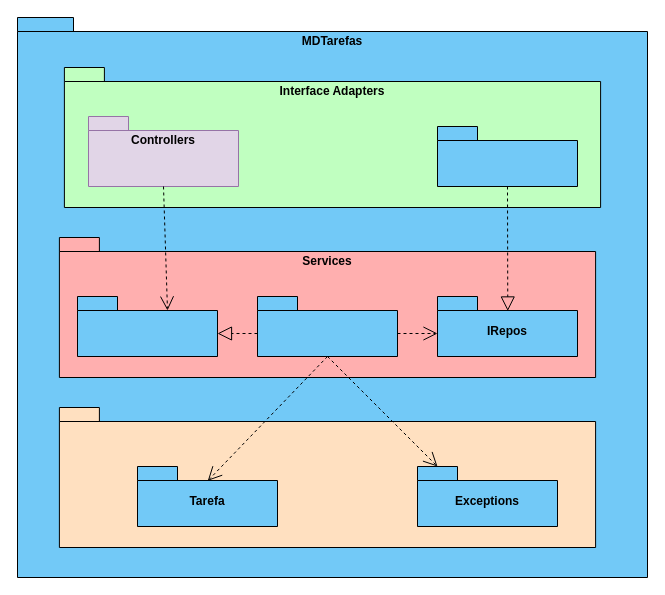
The diagram is 665 pixels wide and 595 high, and some of its shapes have lost their labels. The shapes that lost their labels are listed below. From the top down, each one's box as (x1, y1, x2, y2) in pixels, then its label:
(436, 126, 578, 186): Repos
(76, 296, 218, 356): IServices
(256, 296, 398, 356): ImplServices
(58, 406, 596, 548): Models
